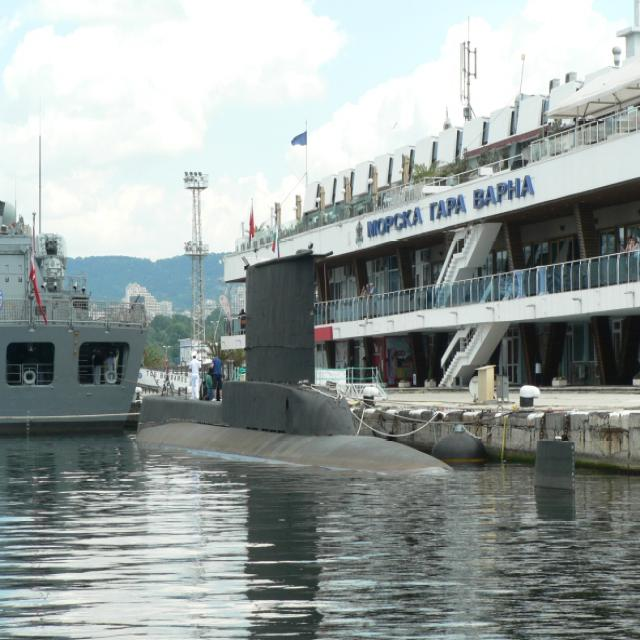submarine: (126, 255, 464, 479)
